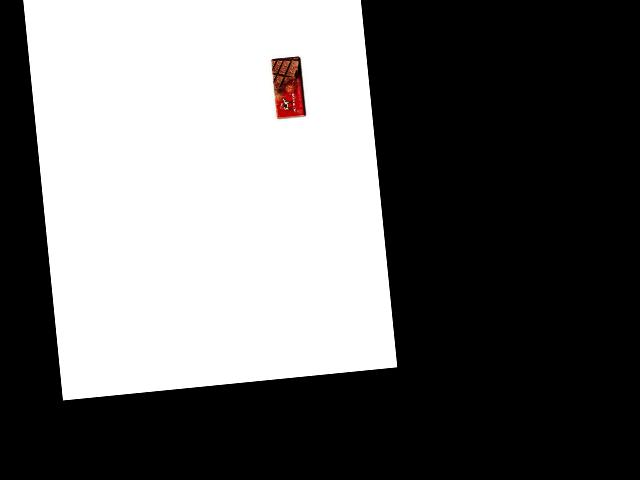chocolate: (269, 54, 307, 119)
